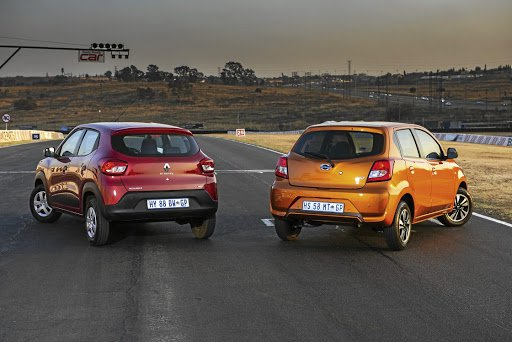car: (269, 116, 476, 248), (30, 117, 218, 242)
